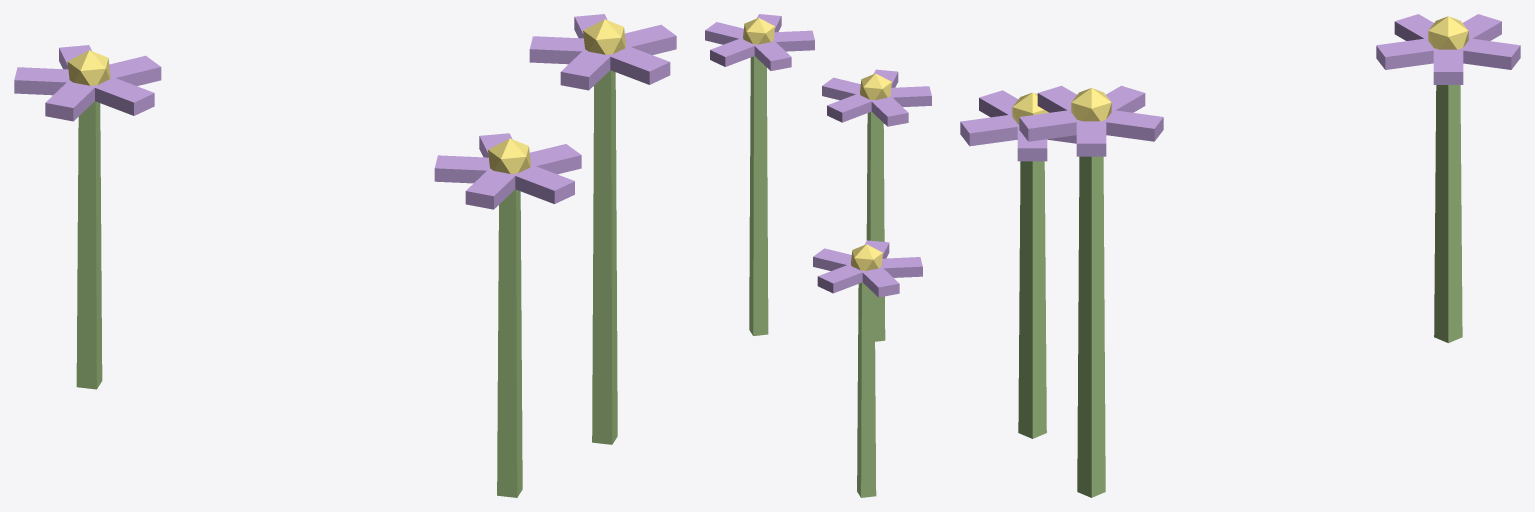
The model's file is Flower_B.fbx.
3 views of the same model, side by side, from view 1: azimuth 30°, elevation 25°; view 2: azimuth 150°, elevation 25°; view 3: azimuth 270°, elevation 25° (orthographic). The views are drawn at different scales.
Visible parts, largest first — view 1: Flower_B_Mesh; view 2: Flower_B_Mesh; view 3: Flower_B_Mesh.
Boxes of the visible parts, box(x1,y1,x2,y2) form: Flower_B_Mesh: box(14, 14, 676, 497); Flower_B_Mesh: box(705, 14, 931, 497); Flower_B_Mesh: box(960, 14, 1520, 497).
Bounding box in the file's own units: 0.4249 × 0.3763 × 0.4727.
